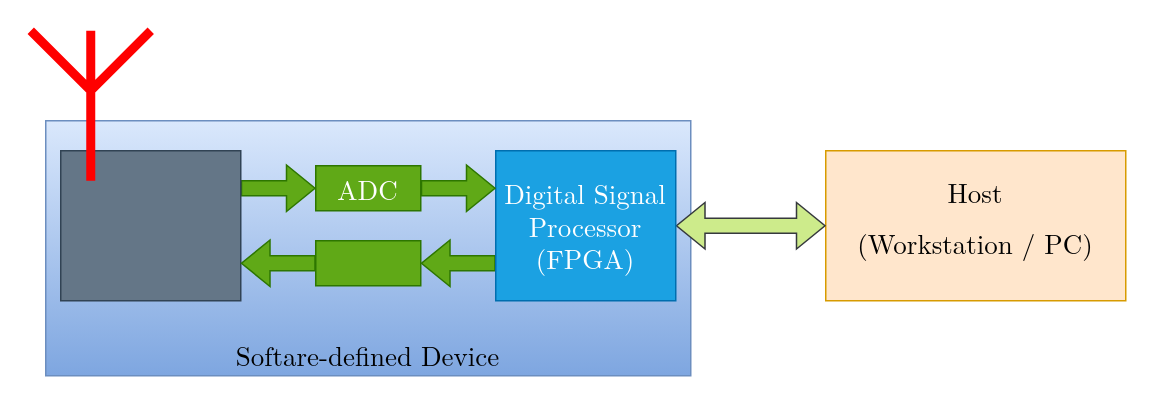
Image size: 1152x402. Some labels were removed from this diagram. Each missing label, with the centre of its shape:
"DAC" goes at (367,262).
"RF Front-end" goes at (150,225).
